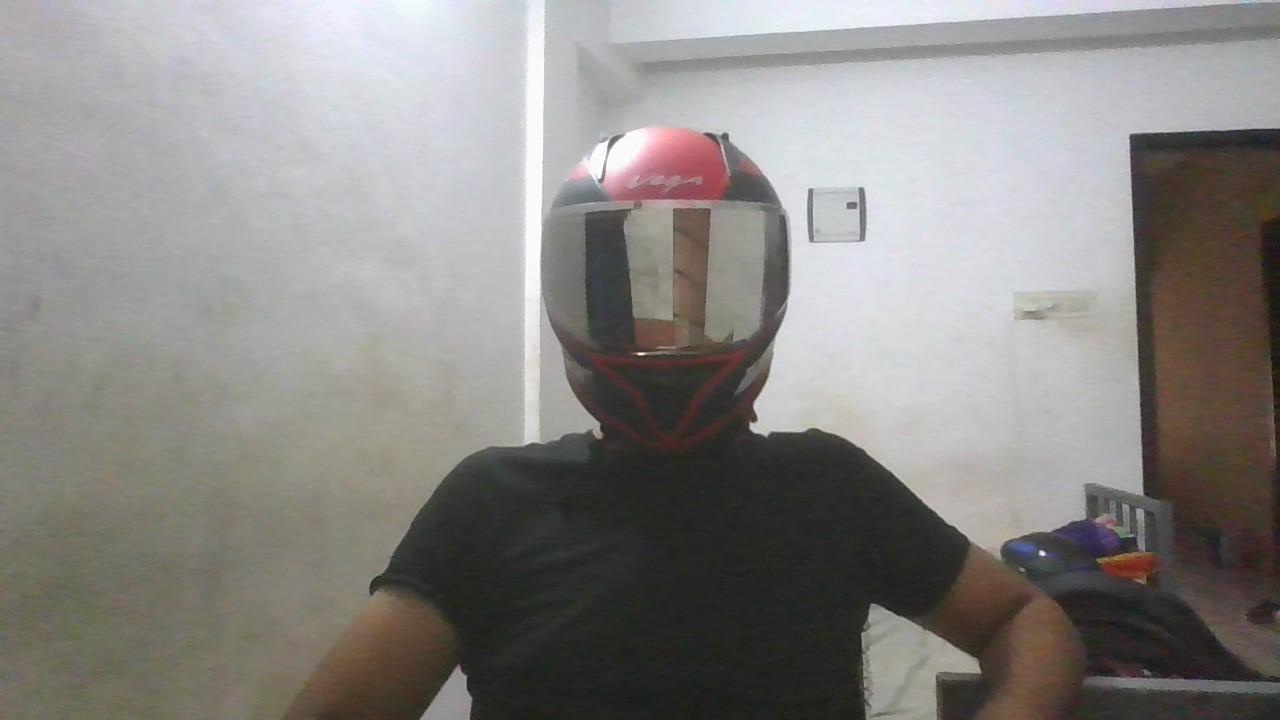helmet: (538, 124, 793, 464)
